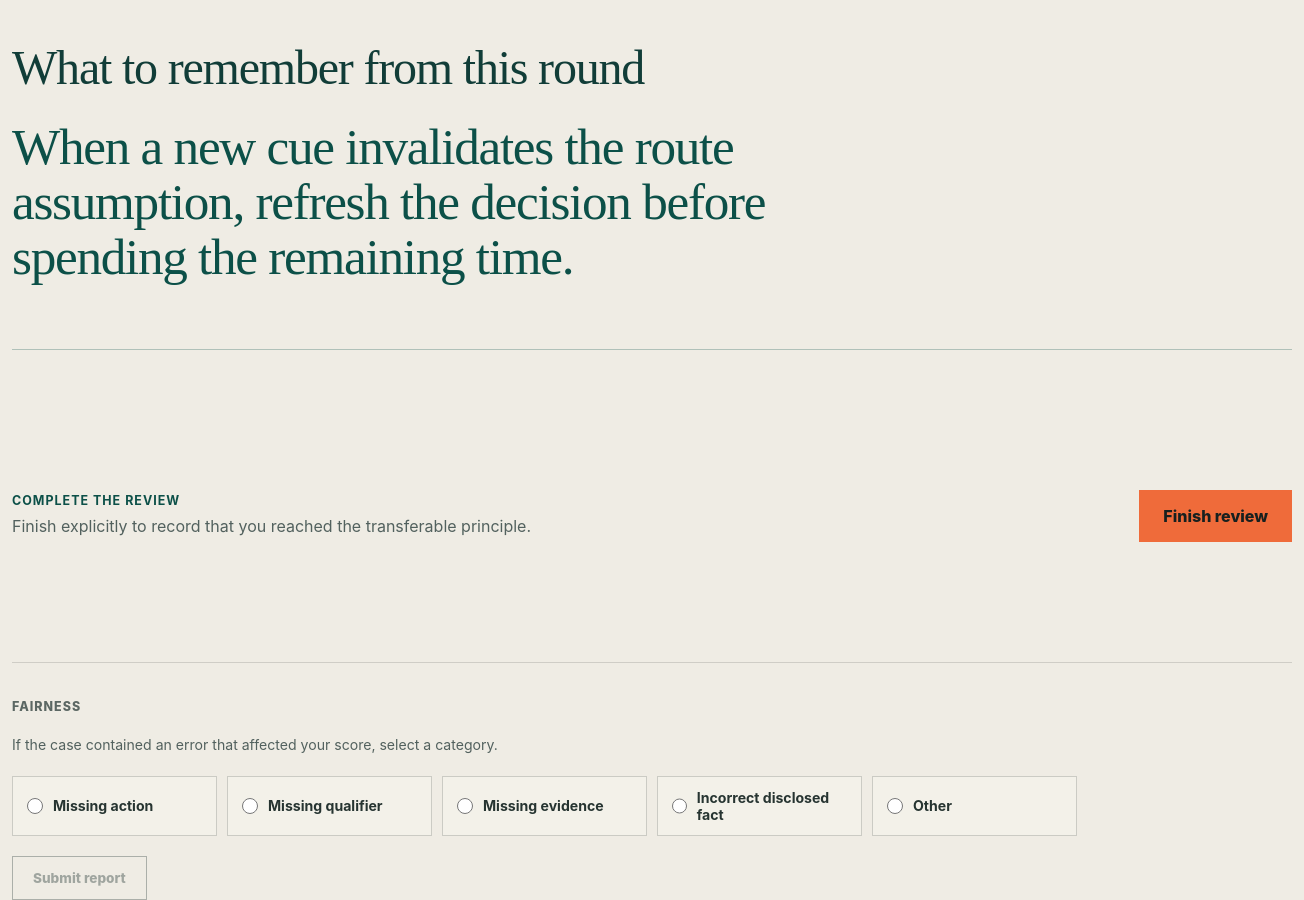
Scenario: FollowupExperience › keeps the explicit completion available after a lost acknowledgement
(page scrolled)
Click the button "Finish review" at (1216, 516), box [1139,490,1292,542]
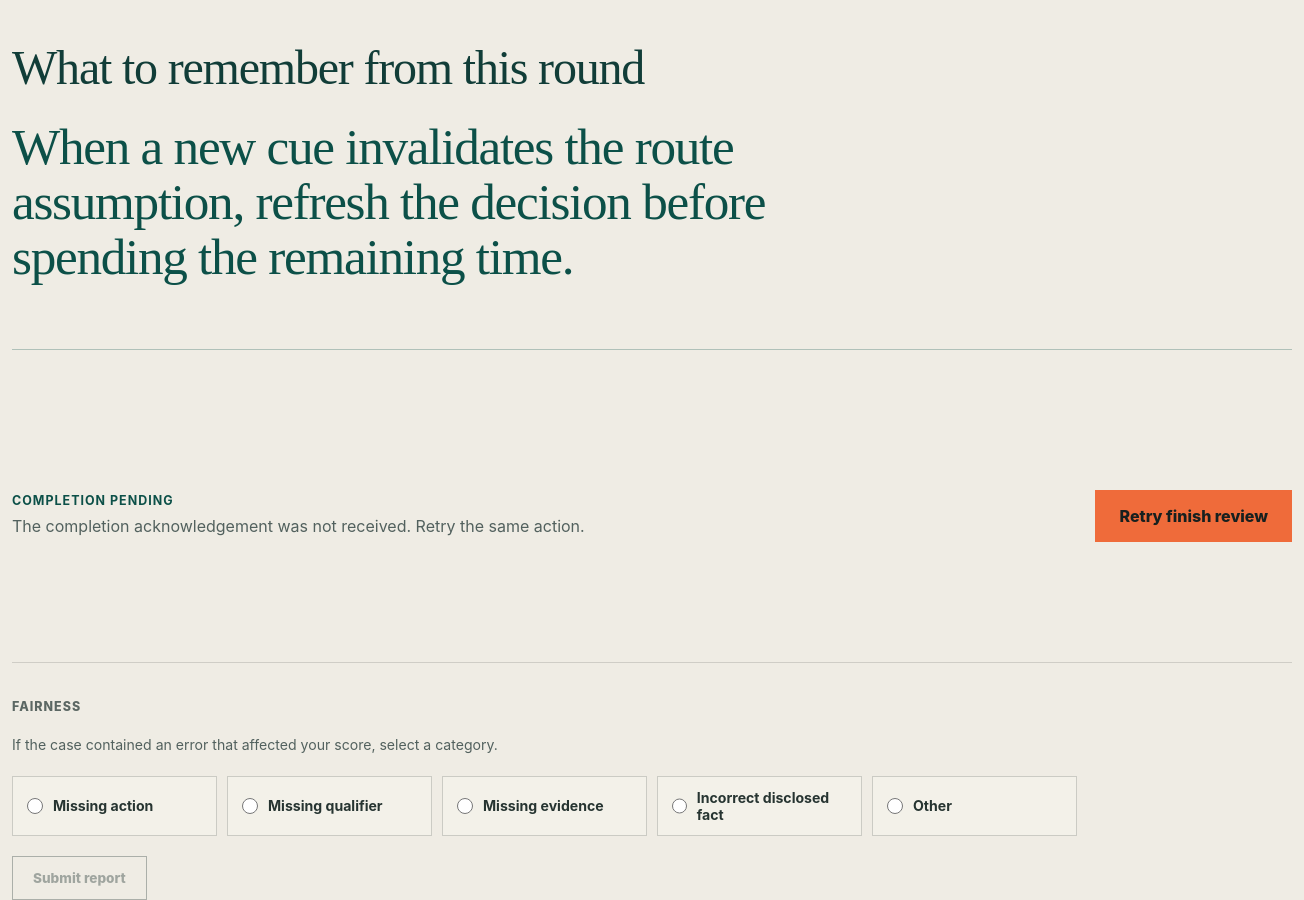
expect the text "Completion pending" is shown: met, box [12,493,174,508]
Click the button "Retry finish review" at (1194, 516), box [1096,490,1292,542]
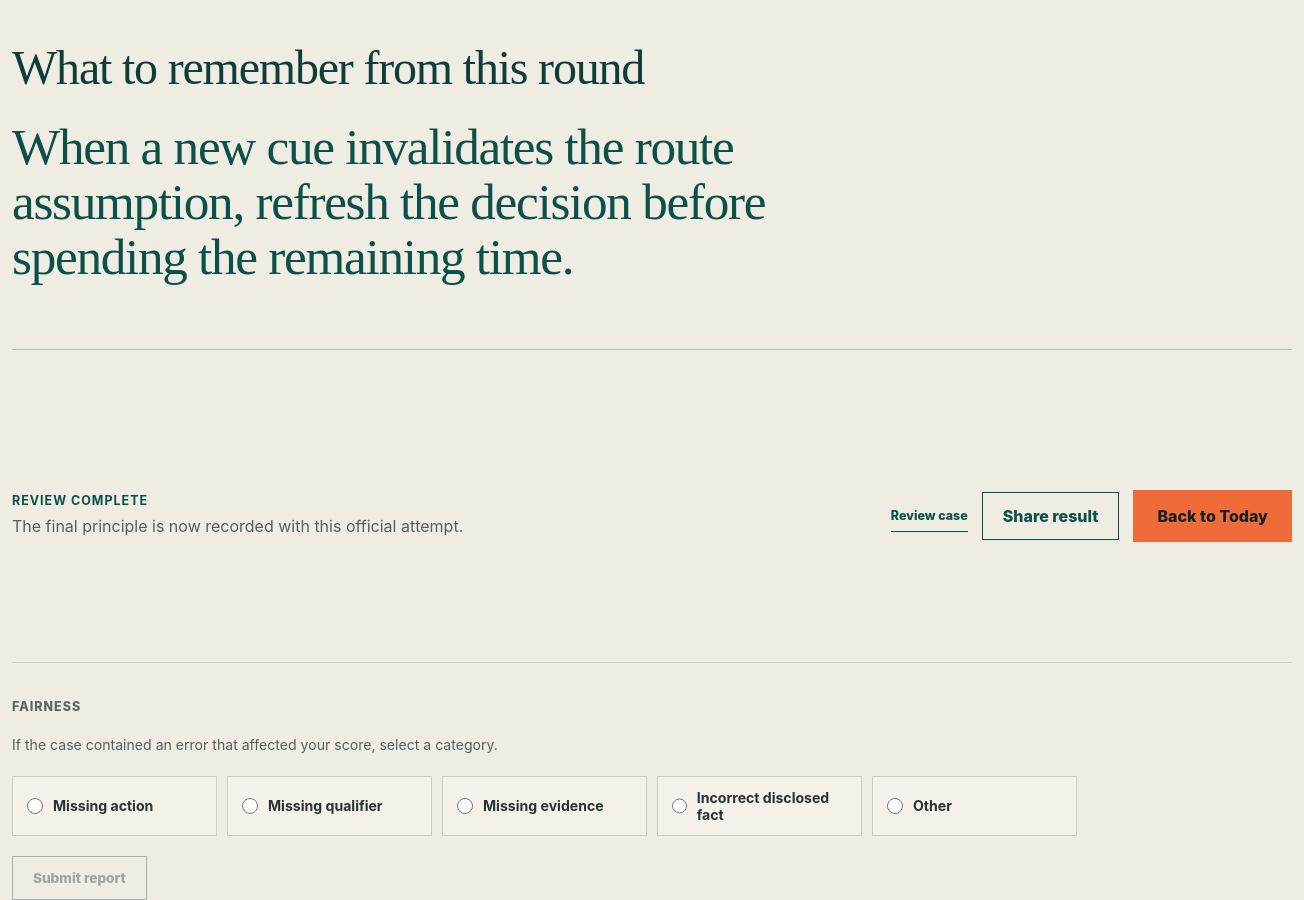
expect the text "Review complete" is shown: met, box [12,493,148,508]
